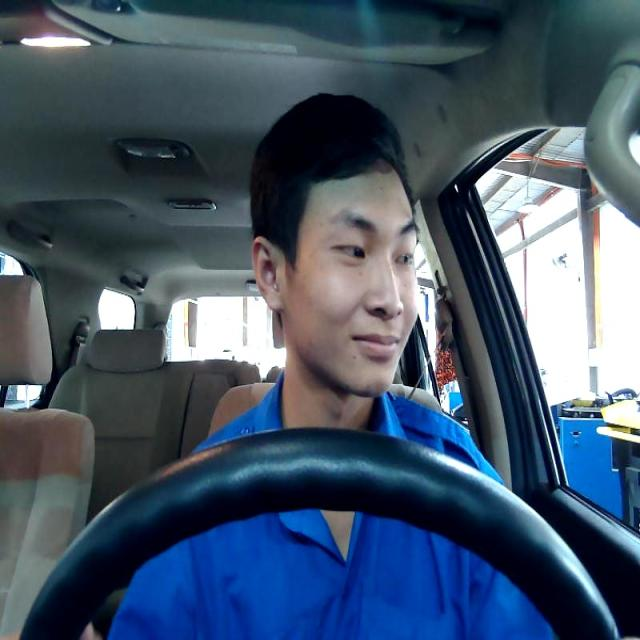focused: (248, 171, 420, 398)
